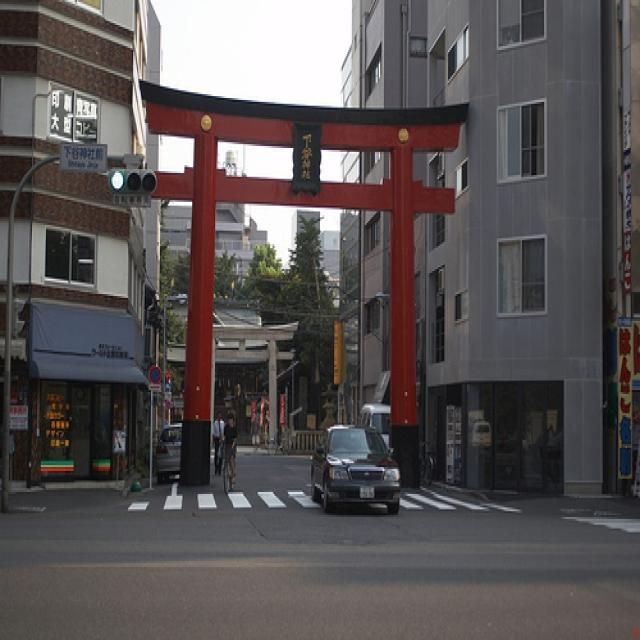Vehicle: (310, 427, 400, 518), (154, 423, 184, 483), (356, 402, 392, 448)
